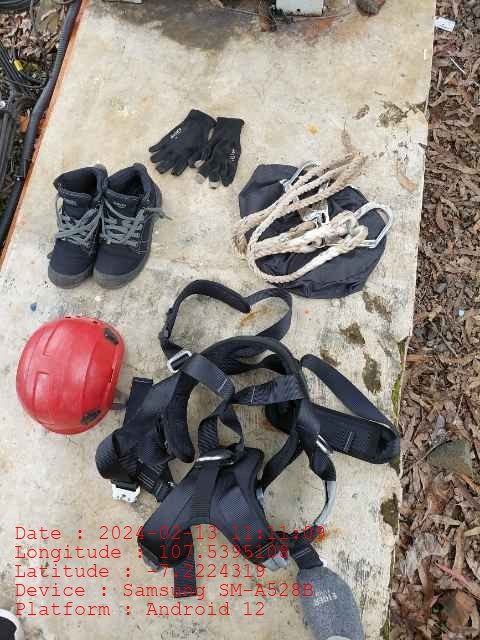HELM: (16, 316, 123, 435)
SARUNG_TANGAN: (150, 108, 210, 175), (206, 116, 242, 188)
SEPATU: (48, 165, 162, 288)
TAMBANG_SLING: (231, 152, 391, 286)
